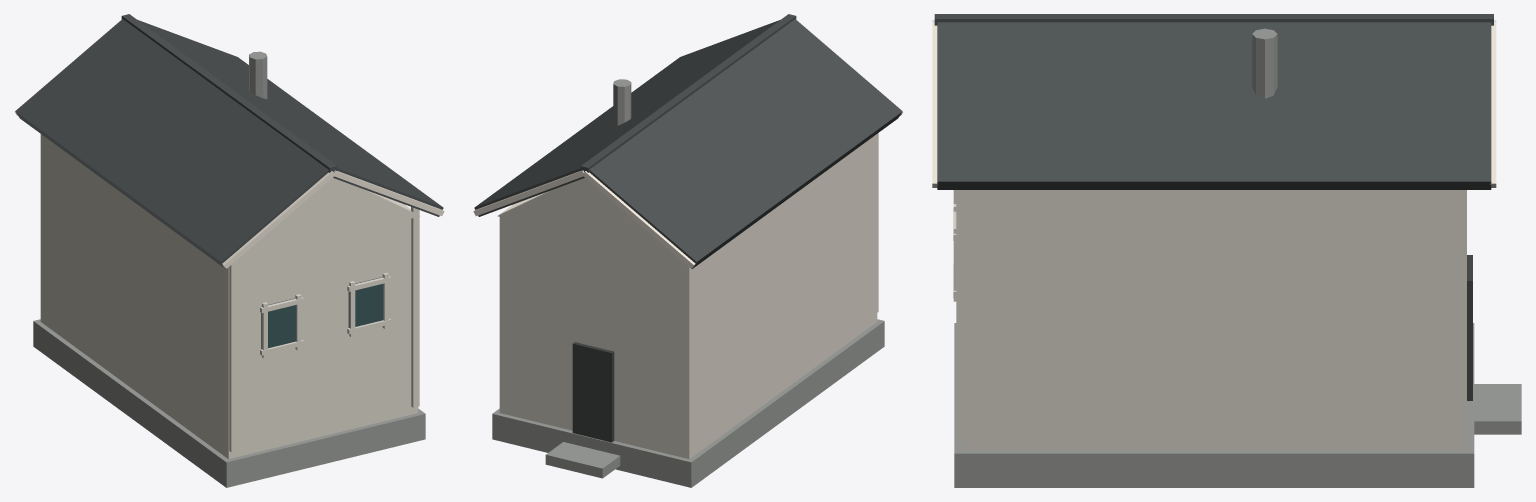
File: norway-house-white-dark_lod0.glb
The picture shows the model from 3 angles, left to right: view 1: azimuth 30°, elevation 25°; view 2: azimuth 150°, elevation 25°; view 3: azimuth 270°, elevation 25°; orthographic projection. The views are drawn at different scales.
Visible parts, largest first — view 1: RF_House_Walls, RF_House_RoofA, RF_House_Foundation, RF_House_RoofB, RF_House_Gables, RF_House_RidgeCap, RF_House_Corner.001, RF_House_Corner, RF_House_WindowRecess.001, RF_House_WindowRecess, RF_House_VergeLeftFront, RF_House_Chimney (+1 smaller); view 2: RF_House_Walls, RF_House_RoofA, RF_House_Foundation, RF_House_RoofB, RF_House_Gables, RF_House_Door, RF_House_RidgeCap, RF_House_Threshold, RF_House_VergeLeftRear, RF_House_Chimney, RF_House_VergeRightRear; view 3: RF_House_Walls, RF_House_RoofB, RF_House_Foundation, RF_House_RidgeCap, RF_House_Threshold, RF_House_Chimney, RF_House_Corner.001, RF_House_VergeRightRear, RF_House_VergeRightFront, RF_House_Door.
Part boxes in pixels (left/top/right/bottom): RF_House_Walls: left=40, top=134, right=418, bottom=459; RF_House_RoofA: left=15, top=19, right=328, bottom=268; RF_House_Foundation: left=33, top=319, right=425, bottom=487; RF_House_RoofB: left=138, top=20, right=443, bottom=216; RF_House_Gables: left=236, top=178, right=420, bottom=261; RF_House_RidgeCap: left=121, top=14, right=337, bottom=172; RF_House_Corner.001: left=411, top=207, right=419, bottom=407; RF_House_Corner: left=229, top=261, right=237, bottom=452; RF_House_WindowRecess.001: left=348, top=277, right=383, bottom=327; RF_House_WindowRecess: left=261, top=298, right=296, bottom=349; RF_House_VergeLeftFront: left=222, top=171, right=334, bottom=268; RF_House_Chimney: left=249, top=51, right=267, bottom=99; RF_House_Walls: left=499, top=134, right=877, bottom=459; RF_House_RoofA: left=589, top=19, right=902, bottom=268; RF_House_Foundation: left=492, top=319, right=884, bottom=487; RF_House_RoofB: left=474, top=20, right=779, bottom=216; RF_House_Gables: left=497, top=178, right=681, bottom=261; RF_House_Door: left=572, top=342, right=614, bottom=442; RF_House_RidgeCap: left=580, top=14, right=796, bottom=172; RF_House_Threshold: left=545, top=442, right=620, bottom=478; RF_House_VergeLeftRear: left=582, top=171, right=695, bottom=268; RF_House_Chimney: left=613, top=79, right=631, bottom=126; RF_House_VergeRightRear: left=473, top=170, right=584, bottom=215; RF_House_Walls: left=961, top=190, right=1466, bottom=450; RF_House_RoofB: left=937, top=22, right=1491, bottom=189; RF_House_Foundation: left=954, top=323, right=1474, bottom=487; RF_House_RidgeCap: left=934, top=14, right=1493, bottom=25; RF_House_Threshold: left=1474, top=384, right=1521, bottom=434; RF_House_Chimney: left=1252, top=28, right=1277, bottom=98; RF_House_Corner.001: left=956, top=190, right=961, bottom=438; RF_House_VergeRightRear: left=1489, top=22, right=1496, bottom=187; RF_House_VergeRightFront: left=932, top=22, right=937, bottom=187; RF_House_Door: left=1467, top=255, right=1472, bottom=400.
Bounding box in the file's own units: 8.21 × 11 × 14.
